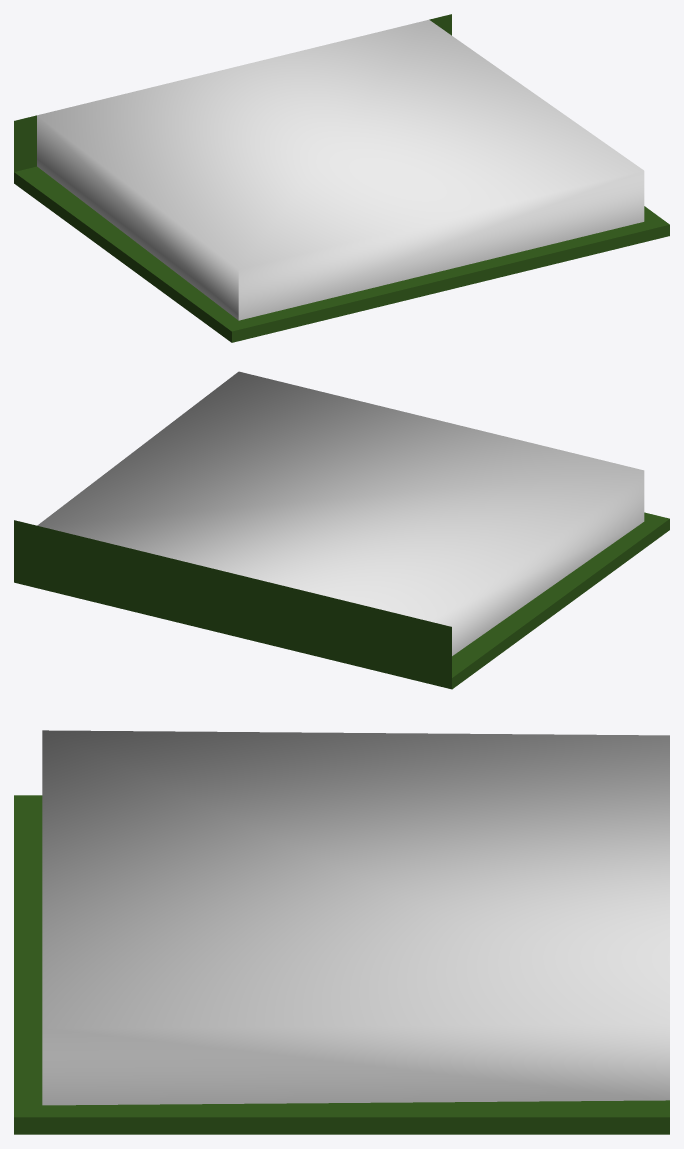
Rendered from book_half.glb.
The picture shows the model from 3 angles, top to bottom: view 1: azimuth 30°, elevation 25°; view 2: azimuth 150°, elevation 25°; view 3: azimuth 270°, elevation 25°; orthographic projection. The views are drawn at different scales.
Parts seen in each view (by area): view 1: Book; view 2: Book; view 3: Book.
Part boxes in pixels (x1,y1,x2,y2): Book: [14, 14, 669, 342]; Book: [14, 371, 669, 689]; Book: [14, 730, 669, 1134].
Bounding box in the file's own units: 0.7236 × 0.0987 × 0.6231.
Materials: 1 (1 with a texture image).
